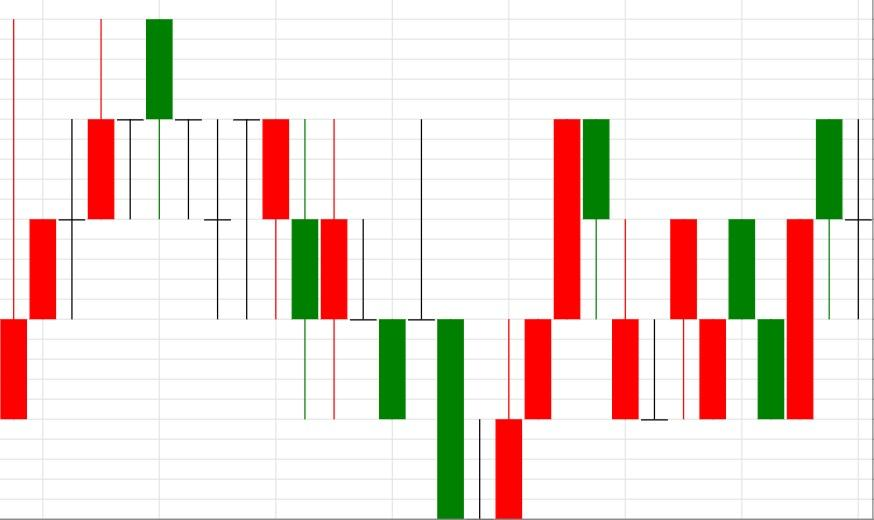morning_star_rise: (145, 19, 523, 520)
